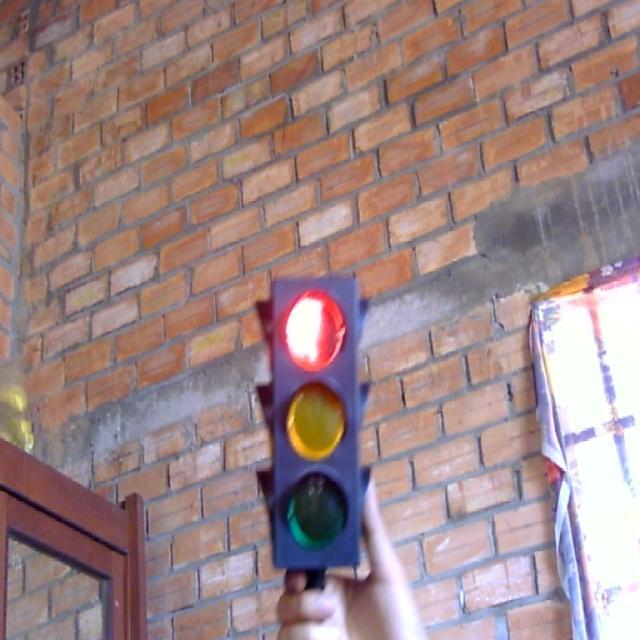red_light: (266, 272, 376, 580)
